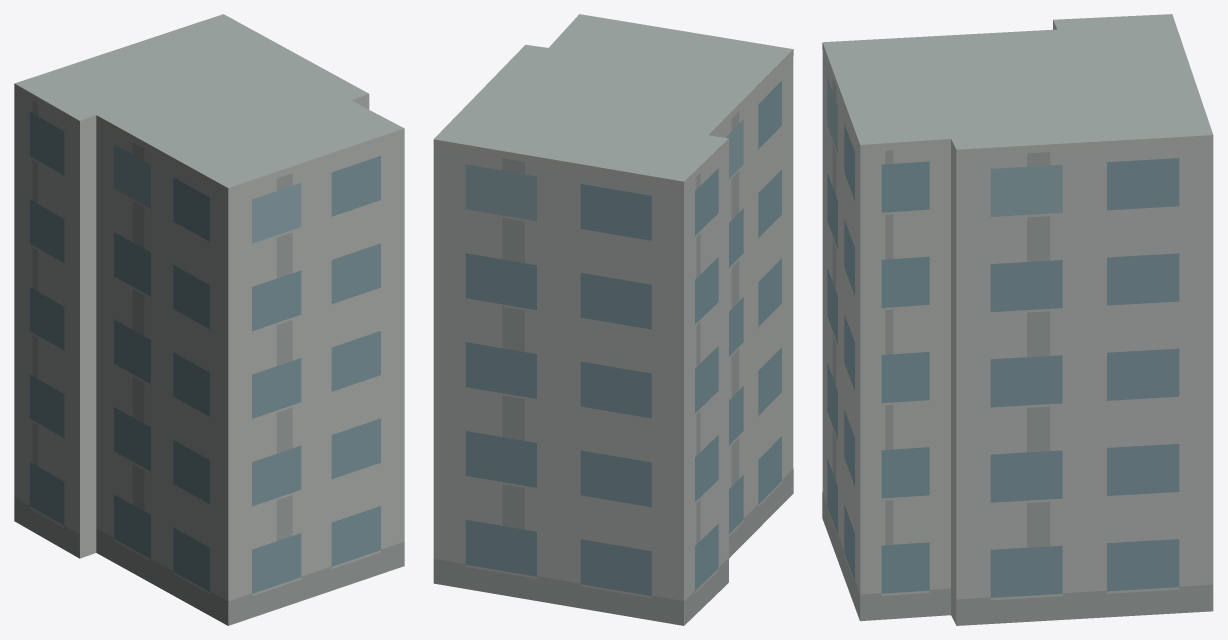
Rendered from residential-845fefd6-7db5-44d4-9fa8-56beb44a5bfb.glb.
3 renders of one model, left to right at view 1: azimuth 30°, elevation 25°; view 2: azimuth 150°, elevation 25°; view 3: azimuth 270°, elevation 25°, orthographic. The views are drawn at different scales.
Visible parts, largest first — view 1: residential-845fefd6-7db5-44d4-9fa8-56beb44a5bfb.tmp; view 2: residential-845fefd6-7db5-44d4-9fa8-56beb44a5bfb.tmp; view 3: residential-845fefd6-7db5-44d4-9fa8-56beb44a5bfb.tmp.
Part boxes in pixels (box(x1,y1,x2,y2)): residential-845fefd6-7db5-44d4-9fa8-56beb44a5bfb.tmp: box(14, 14, 404, 625); residential-845fefd6-7db5-44d4-9fa8-56beb44a5bfb.tmp: box(433, 14, 793, 625); residential-845fefd6-7db5-44d4-9fa8-56beb44a5bfb.tmp: box(822, 14, 1213, 625).
Size of the model in its own units: 9.33 by 15.25 by 11.36.
